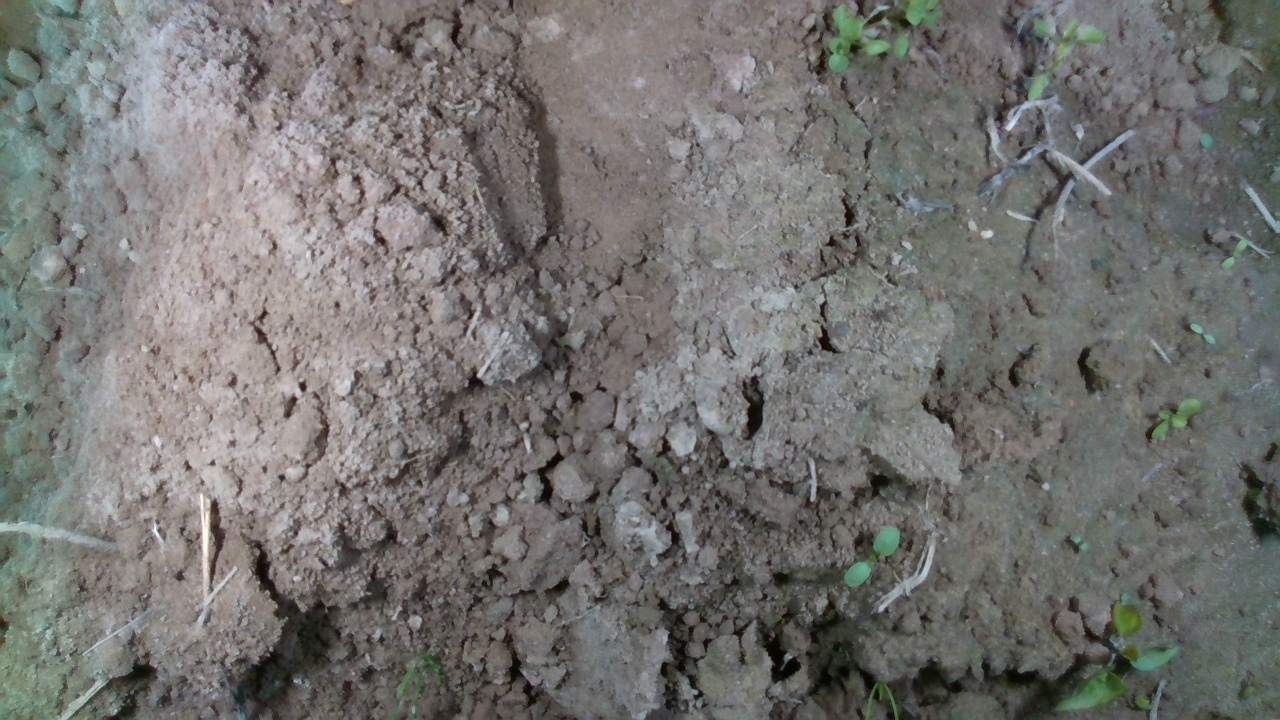weed: (842, 525, 901, 590), (1149, 397, 1201, 441), (1221, 238, 1251, 272), (1188, 322, 1217, 347)
